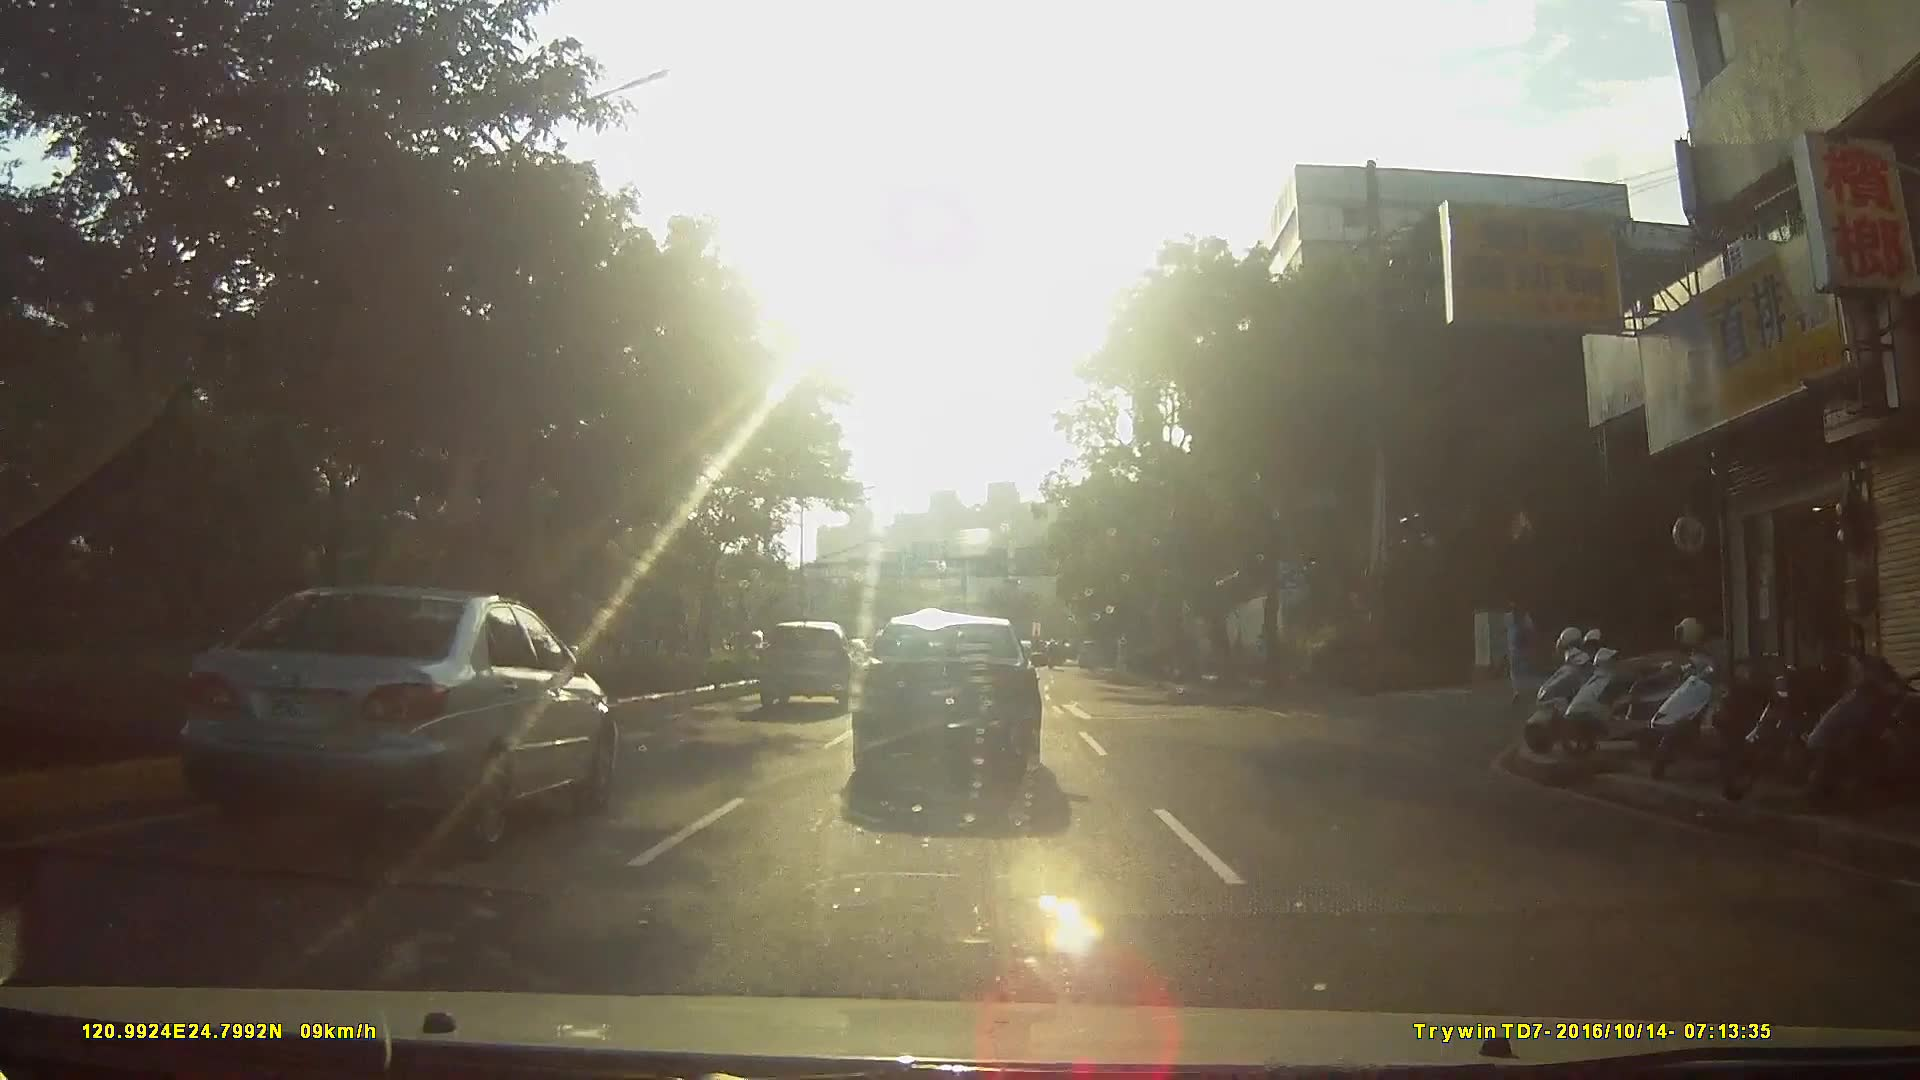pedestrian: (1502, 593, 1551, 699)
vehicle: (158, 583, 631, 864), (855, 612, 1063, 791), (757, 620, 865, 710), (1076, 639, 1108, 671)
